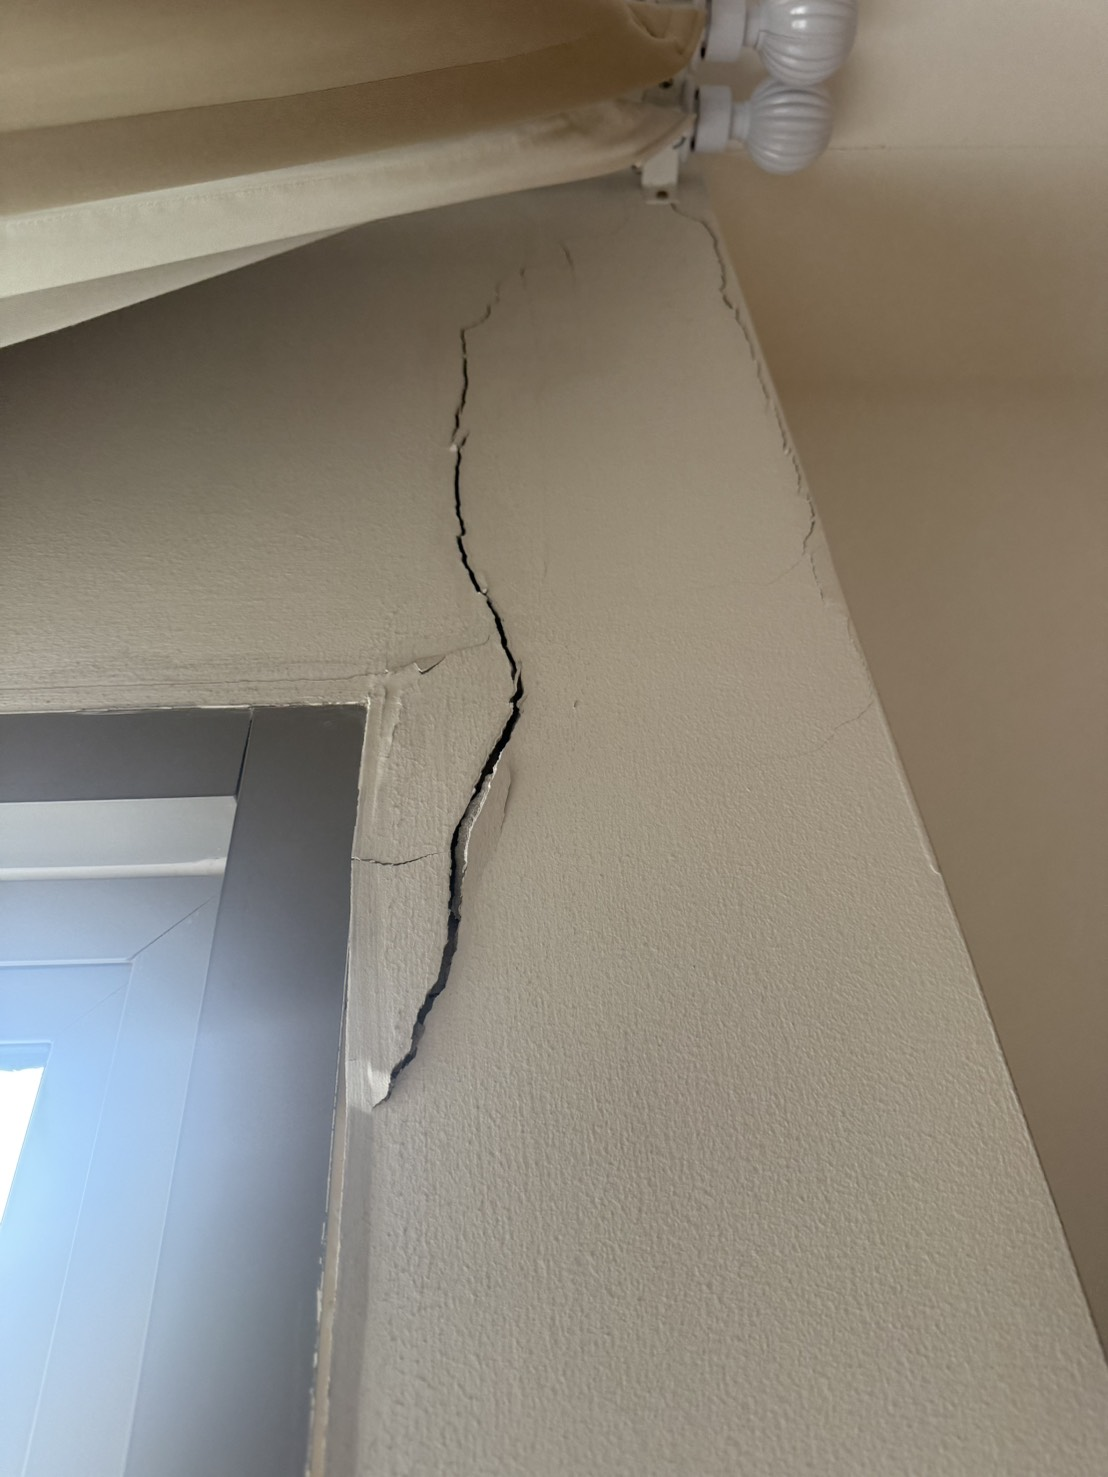Medium: (414, 327, 571, 1049)
